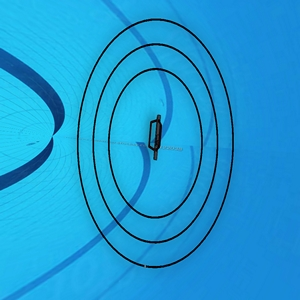circle: (73, 16, 236, 275)
submarine: (149, 113, 163, 158)
